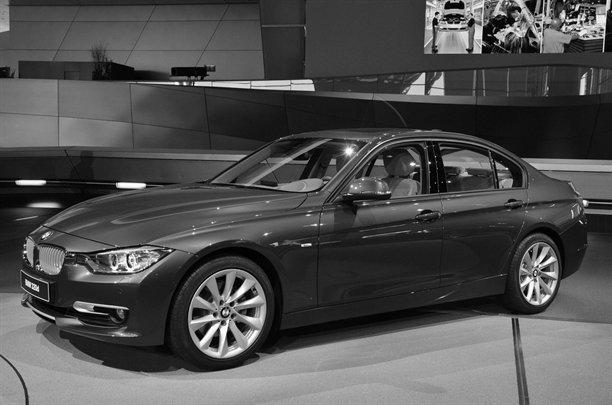car: (22, 123, 591, 373)
